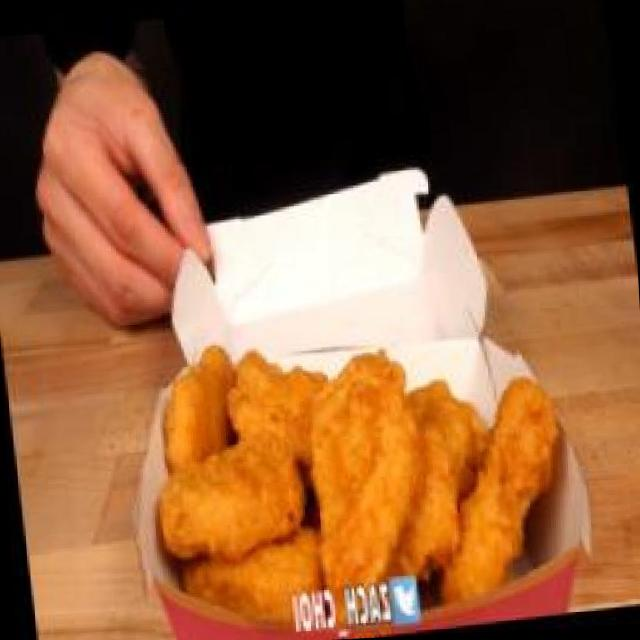nugget: (111, 279, 592, 638)
